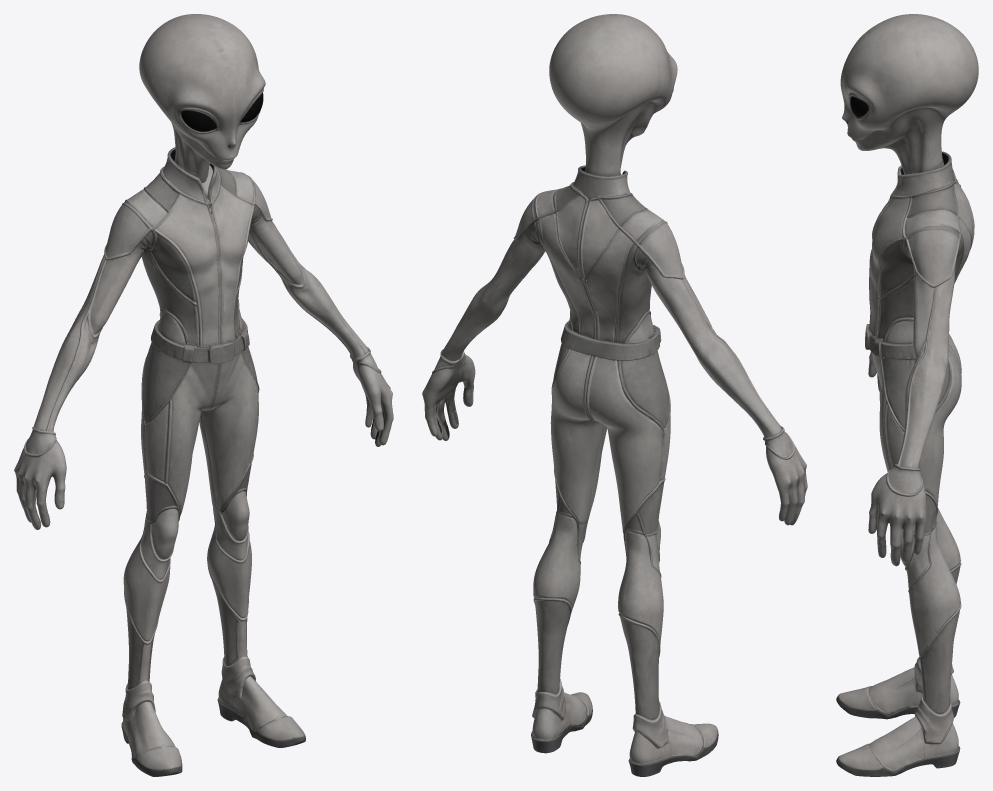
File: character.glb
3 views of the same model, side by side, from view 1: azimuth 30°, elevation 25°; view 2: azimuth 150°, elevation 25°; view 3: azimuth 270°, elevation 25° (orthographic).
Visible parts, largest first — view 1: alien-grey; view 2: alien-grey; view 3: alien-grey.
Part boxes in pixels (x1,y1,x2,y2): alien-grey: (14,14,393,776); alien-grey: (422,14,807,776); alien-grey: (836,14,978,776).
Bounding box in the file's own units: 0.7479 × 1.4 × 0.2512.
Materials: 1 (1 with a texture image).
